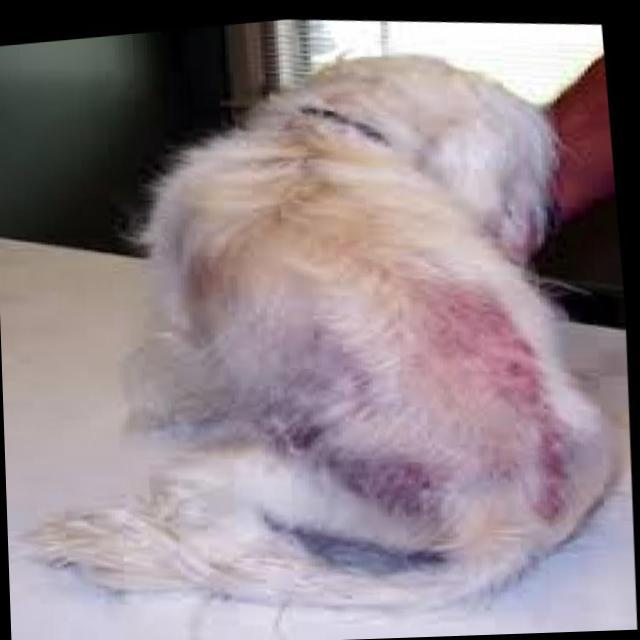allergic dermatitis: (253, 296, 425, 529), (415, 274, 570, 528)
